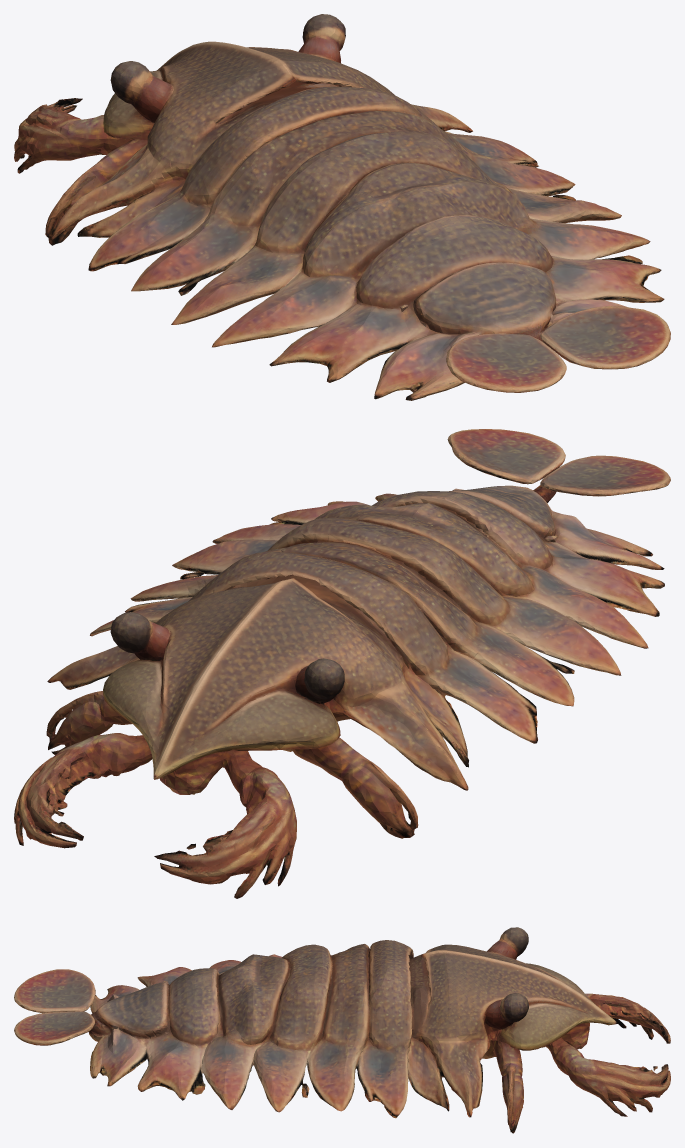
3 views of the same model, one above another, from view 1: azimuth 30°, elevation 25°; view 2: azimuth 150°, elevation 25°; view 3: azimuth 270°, elevation 25° (orthographic). The views are drawn at different scales.
Visible parts, largest first — view 1: world; view 2: world; view 3: world.
Boxes of the visible parts, x1,y1,x2,y2 form: world: (14, 14, 670, 400); world: (14, 429, 670, 898); world: (14, 927, 670, 1133).
Bounding box in the file's own units: 0.5507 × 0.21 × 0.9997.
Materials: 1 (1 with a texture image).
